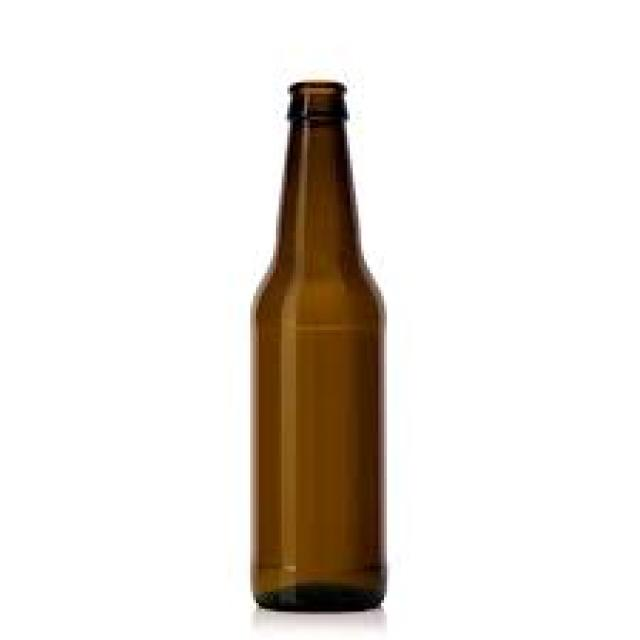glass: (247, 83, 384, 609)
